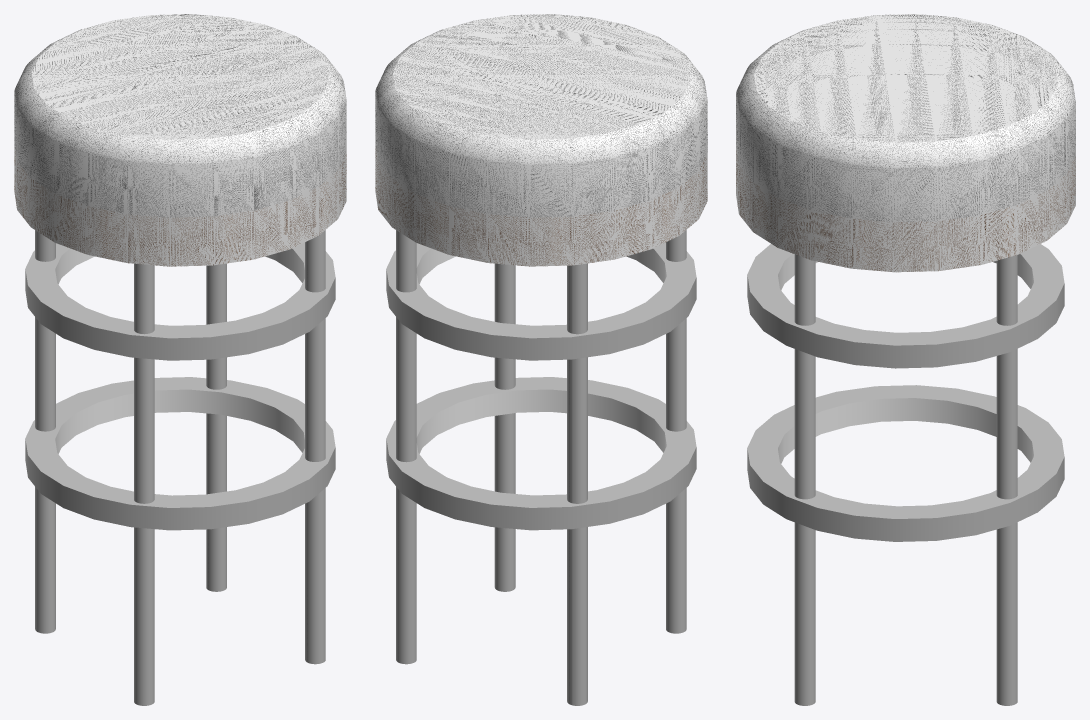
3 renders of one model, left to right at view 1: azimuth 30°, elevation 25°; view 2: azimuth 150°, elevation 25°; view 3: azimuth 270°, elevation 25°, orthographic. The views are drawn at different scales.
Parts seen in each view (by area): view 1: mesh1_mesh1-geometry; view 2: mesh1_mesh1-geometry; view 3: mesh1_mesh1-geometry.
Boxes of the visible parts, x1,y1,x2,y2 form: mesh1_mesh1-geometry: (14, 14, 346, 705); mesh1_mesh1-geometry: (375, 14, 707, 705); mesh1_mesh1-geometry: (736, 14, 1075, 705).
Bounding box in the file's own units: 0.4243 × 0.7999 × 0.4243.
4 materials, 1 textured.
